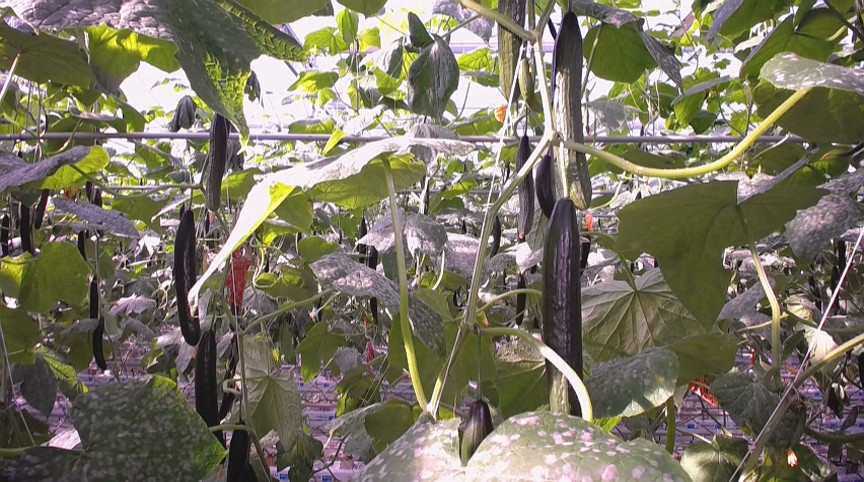cucumber: (544, 198, 585, 417), (556, 13, 592, 208), (175, 211, 200, 344), (195, 330, 220, 427), (461, 401, 495, 463), (208, 112, 226, 212), (518, 136, 534, 237), (91, 317, 107, 371)
